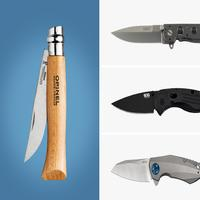knife: (21, 18, 83, 193), (104, 150, 200, 191), (102, 11, 200, 48), (105, 81, 198, 117)
